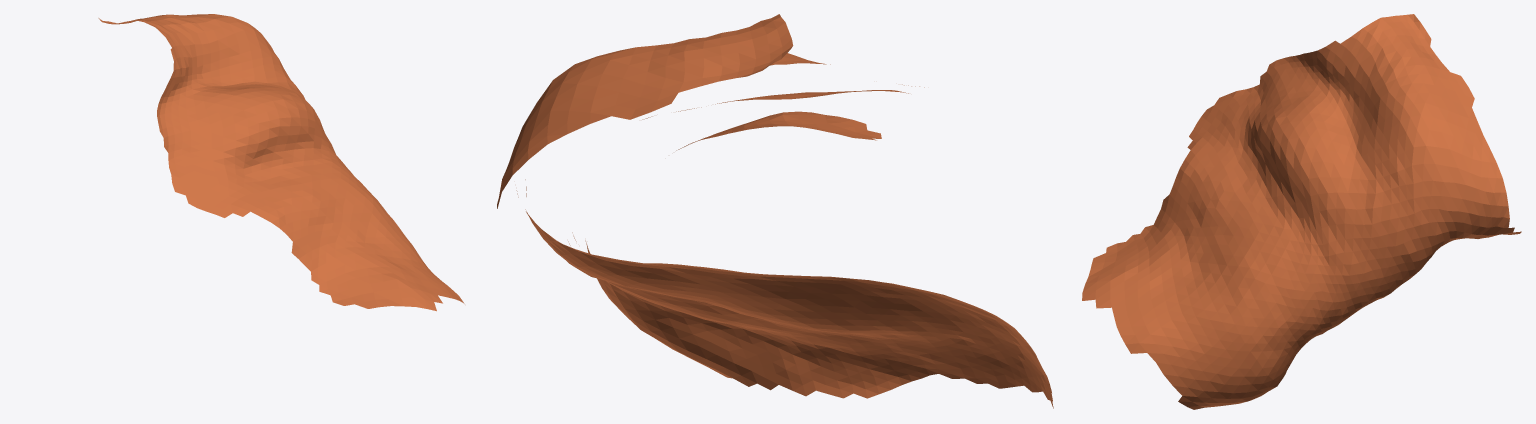
File: rh_parstriangularis.glb
3 renders of one model, left to right at view 1: azimuth 30°, elevation 25°; view 2: azimuth 150°, elevation 25°; view 3: azimuth 270°, elevation 25°, orthographic. The views are drawn at different scales.
Parts seen in each view (by area): view 1: world; view 2: world; view 3: world.
Boxes of the visible parts, box(x1,y1,x2,y2) form: world: box(98, 14, 464, 311); world: box(497, 14, 1053, 408); world: box(1082, 14, 1521, 409).
Size of the model in its own units: 25.86 by 22.52 by 28.59.
